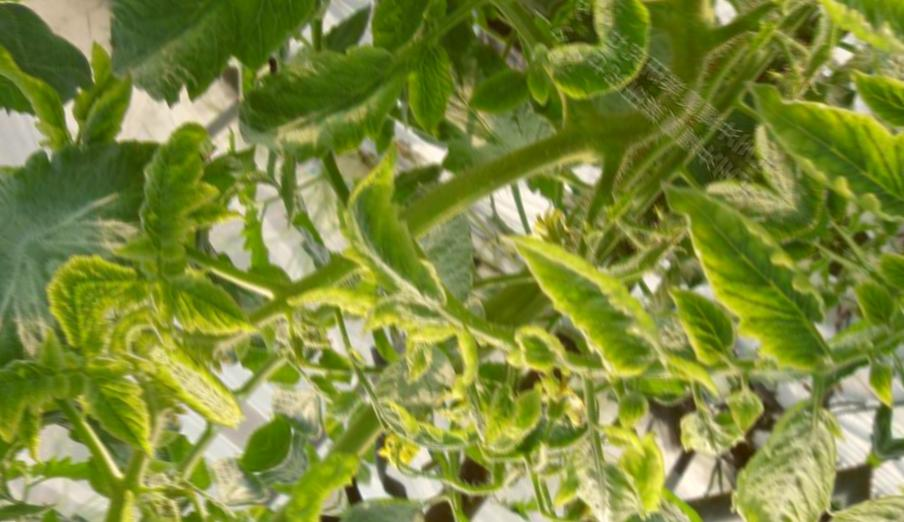Tomato leaf yellow virus: (615, 158, 867, 392), (468, 200, 691, 405), (299, 141, 489, 329), (675, 366, 887, 522), (93, 113, 253, 277), (517, 12, 657, 146), (144, 247, 265, 367), (576, 417, 698, 522), (48, 219, 156, 323)
